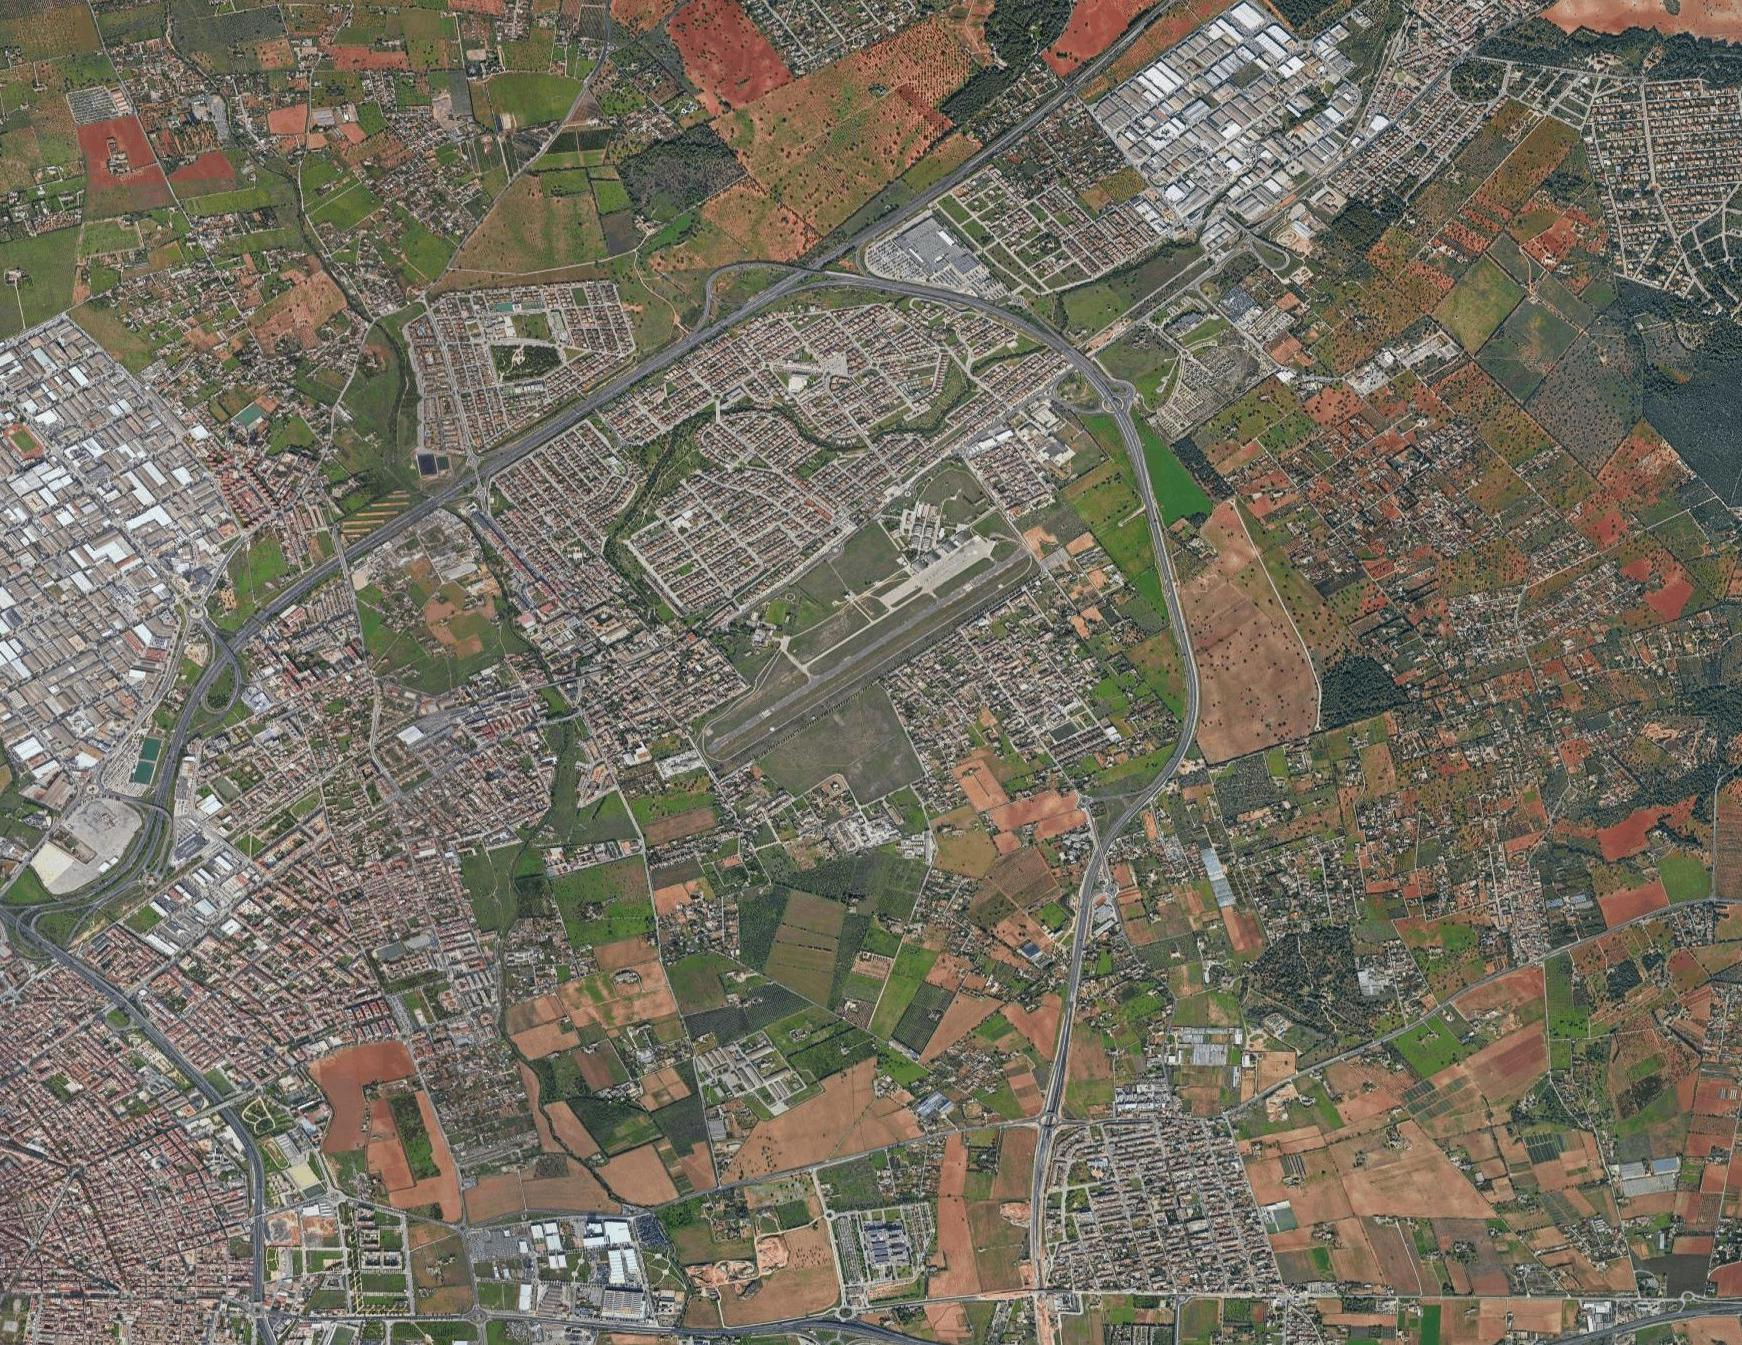airport: (699, 509, 1033, 762)
motorway: (445, 348, 675, 502), (237, 489, 445, 647), (1077, 350, 1180, 603), (20, 934, 196, 1081), (807, 141, 1007, 267), (1005, 1, 1175, 144), (1, 805, 170, 937), (196, 1081, 280, 1345), (1074, 766, 1175, 937), (858, 275, 1077, 350), (675, 260, 860, 348), (157, 640, 237, 805), (1040, 937, 1085, 1142), (1166, 602, 1198, 769)
